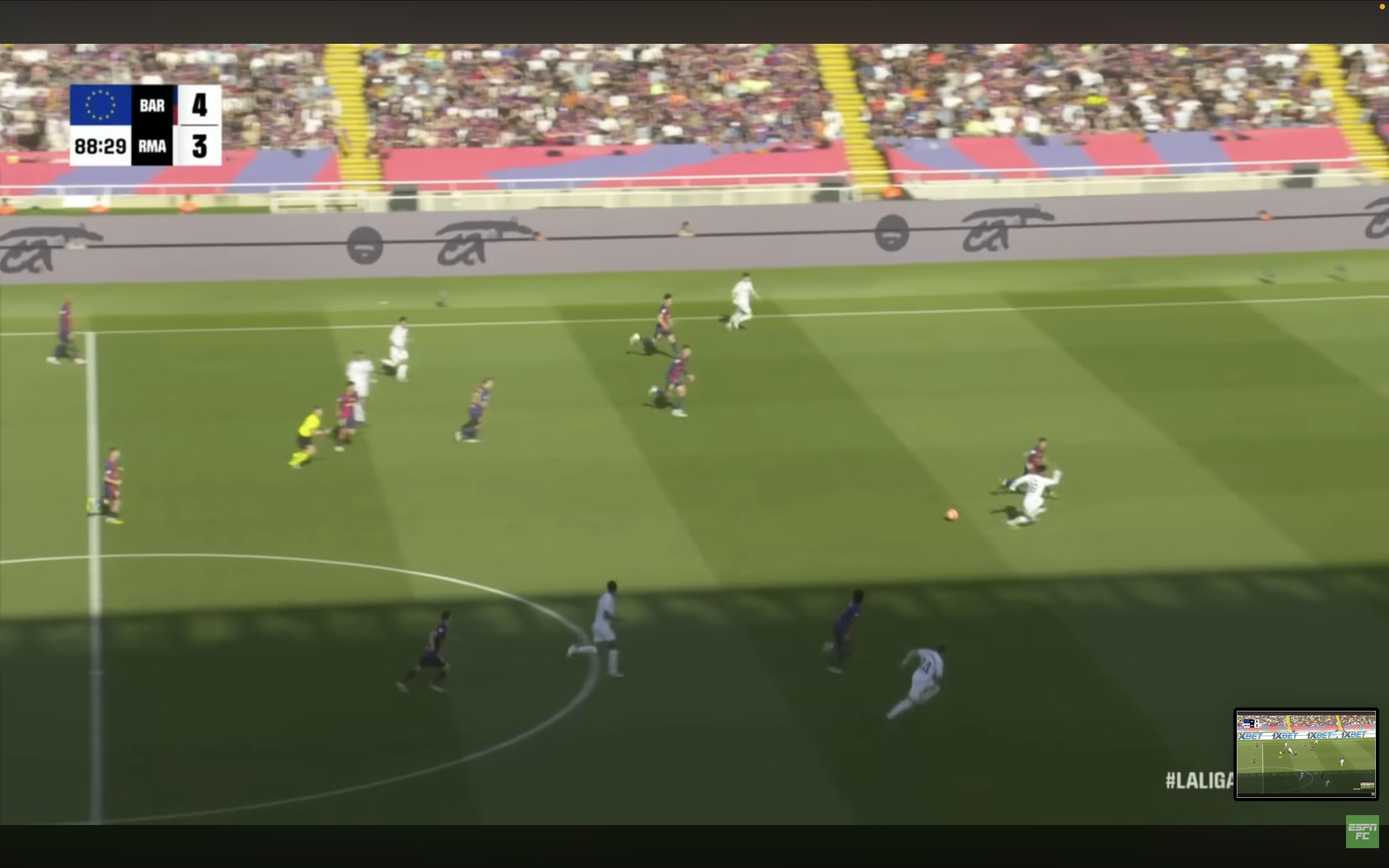ball: (944, 509, 959, 521)
player: (568, 581, 623, 677), (397, 611, 451, 692), (887, 646, 945, 719), (823, 590, 864, 674), (1009, 464, 1062, 527), (649, 346, 694, 417), (629, 293, 678, 355), (87, 448, 123, 525), (46, 296, 85, 364), (456, 377, 493, 443), (346, 351, 376, 425), (726, 273, 759, 330), (334, 381, 360, 451), (382, 317, 409, 382), (1021, 437, 1047, 475)
referee: (289, 407, 328, 469)
